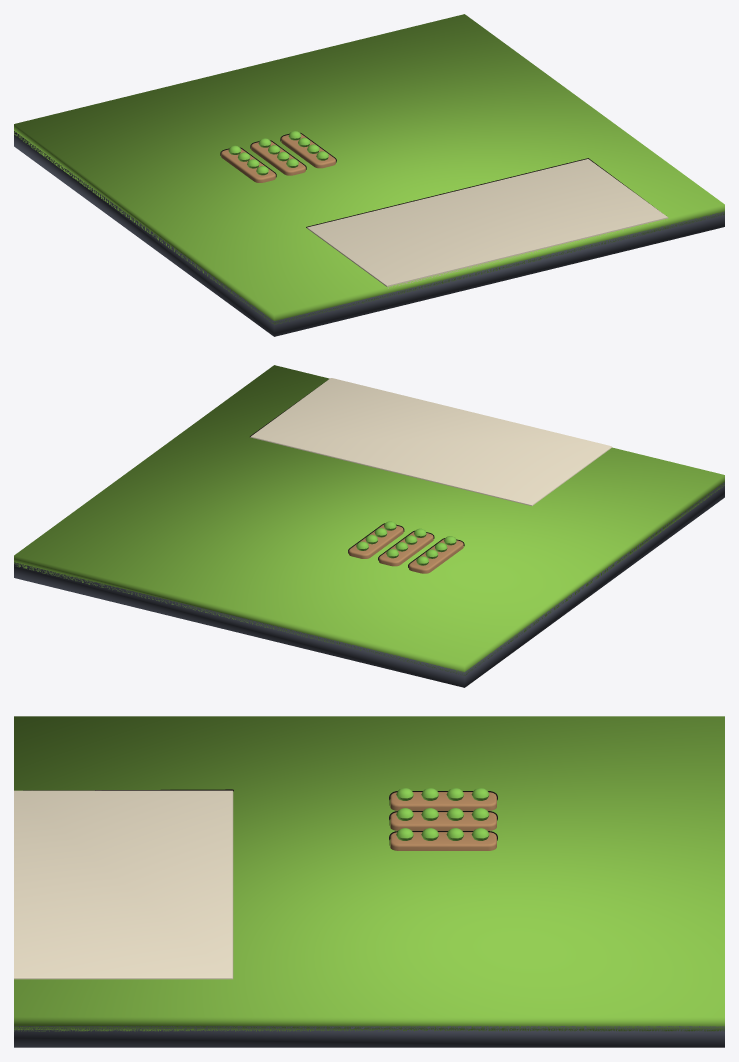
File: Lot_LunaBakery.fbx
3 views of the same model, one above another, from view 1: azimuth 30°, elevation 25°; view 2: azimuth 150°, elevation 25°; view 3: azimuth 270°, elevation 25° (orthographic). The views are drawn at different scales.
Visible parts, largest first — view 1: Tile_Lot_LunaBakery_Grass, Tile_Lot_LunaBakery_Sidewalk, Tile_Lot_LunaBakery_Asphalt, Tile_Lot_LunaBakery_Dirt, Tile_Lot_LunaBakery_Leaf2, Tile_Lot_LunaBakery_Outline; view 2: Tile_Lot_LunaBakery_Grass, Tile_Lot_LunaBakery_Sidewalk, Tile_Lot_LunaBakery_Asphalt, Tile_Lot_LunaBakery_Dirt, Tile_Lot_LunaBakery_Leaf2; view 3: Tile_Lot_LunaBakery_Grass, Tile_Lot_LunaBakery_Sidewalk, Tile_Lot_LunaBakery_Asphalt, Tile_Lot_LunaBakery_Dirt, Tile_Lot_LunaBakery_Leaf2, Tile_Lot_LunaBakery_Outline.
Part boxes in pixels (bbox=[...]): Tile_Lot_LunaBakery_Grass: bbox=[14, 14, 724, 324]; Tile_Lot_LunaBakery_Sidewalk: bbox=[307, 159, 668, 288]; Tile_Lot_LunaBakery_Asphalt: bbox=[14, 131, 724, 336]; Tile_Lot_LunaBakery_Dirt: bbox=[221, 134, 335, 182]; Tile_Lot_LunaBakery_Leaf2: bbox=[228, 131, 328, 175]; Tile_Lot_LunaBakery_Outline: bbox=[220, 132, 657, 227]; Tile_Lot_LunaBakery_Grass: bbox=[14, 365, 724, 675]; Tile_Lot_LunaBakery_Sidewalk: bbox=[250, 378, 612, 505]; Tile_Lot_LunaBakery_Asphalt: bbox=[14, 482, 724, 687]; Tile_Lot_LunaBakery_Dirt: bbox=[348, 524, 463, 573]; Tile_Lot_LunaBakery_Leaf2: bbox=[356, 521, 456, 565]; Tile_Lot_LunaBakery_Grass: bbox=[14, 716, 724, 1031]; Tile_Lot_LunaBakery_Sidewalk: bbox=[14, 790, 233, 979]; Tile_Lot_LunaBakery_Asphalt: bbox=[14, 1026, 724, 1047]; Tile_Lot_LunaBakery_Dirt: bbox=[390, 792, 496, 850]; Tile_Lot_LunaBakery_Leaf2: bbox=[396, 788, 489, 840]; Tile_Lot_LunaBakery_Outline: bbox=[23, 789, 497, 845].
Size of the model in its own units: 24 by 1.7 by 24.
